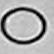no answer: (1, 6, 48, 47)
